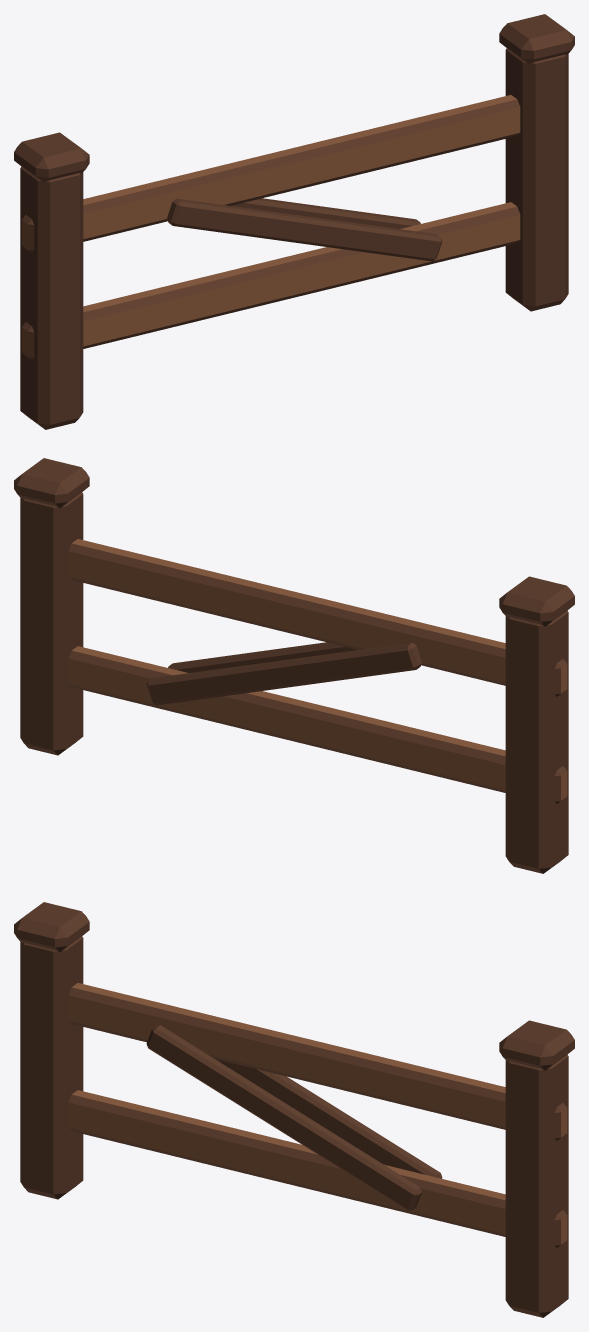
File: fence_segment_2m.glb
3 renders of one model, top to bottom at view 1: azimuth 30°, elevation 25°; view 2: azimuth 150°, elevation 25°; view 3: azimuth 330°, elevation 25°, orthographic.
Parts seen in each view (by area): view 1: fence_segment_2m; view 2: fence_segment_2m; view 3: fence_segment_2m.
Part boxes in pixels (x1=…): fence_segment_2m: x1=14, y1=14, x2=574, y2=429; fence_segment_2m: x1=14, y1=458, x2=574, y2=873; fence_segment_2m: x1=14, y1=902, x2=574, y2=1317.
Bounding box in the file's own units: 2 × 0.975 × 0.2.
